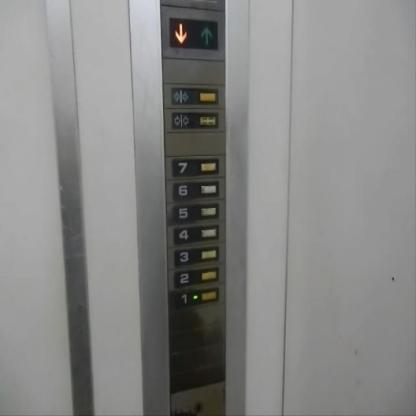1: (174, 286, 218, 308)
2: (173, 264, 218, 287)
3: (172, 244, 220, 265)
4: (172, 223, 219, 244)
5: (172, 201, 219, 221)
6: (171, 180, 220, 199)
7: (170, 157, 219, 176)
close: (170, 110, 218, 130)
open: (170, 85, 219, 105)
